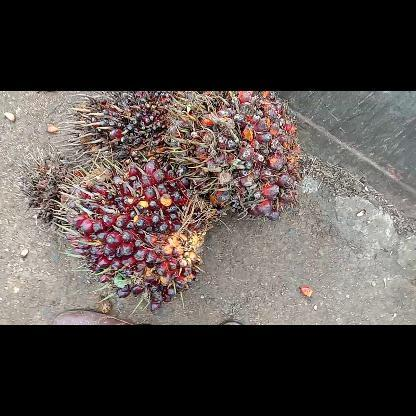TBS abnormal: (57, 92, 173, 172), (14, 146, 96, 232)
TBS masak: (47, 155, 211, 313), (160, 92, 304, 226)
